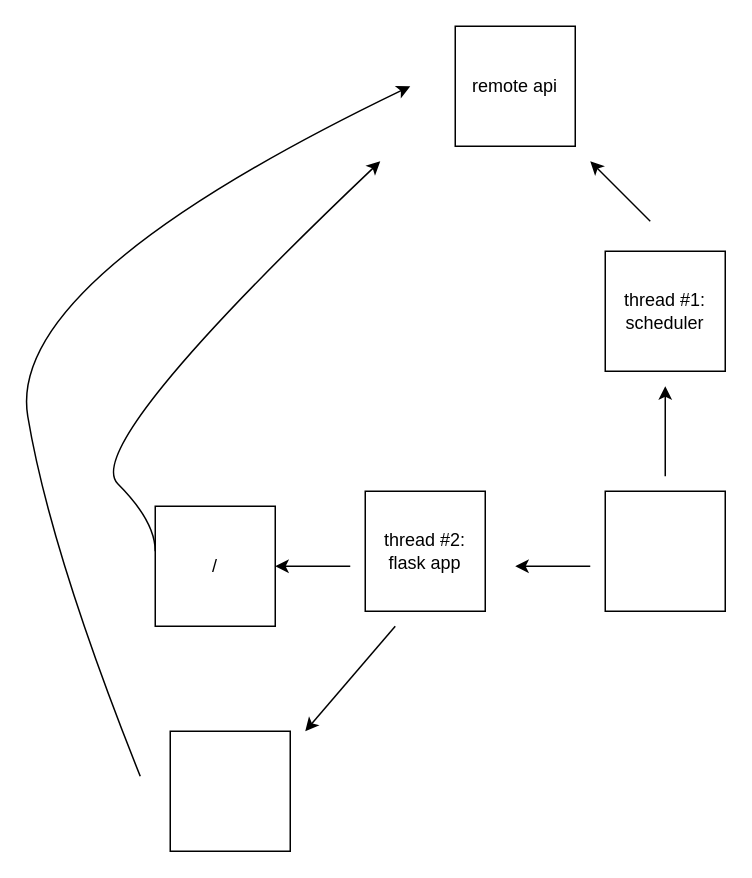
Image size: 752x878. Some labels were removed from this diagram. Here are the shapes that lost their labels. From the top down, the box of each, then its label:
(604, 490, 725, 611): server.py
(169, 730, 290, 851): /api
